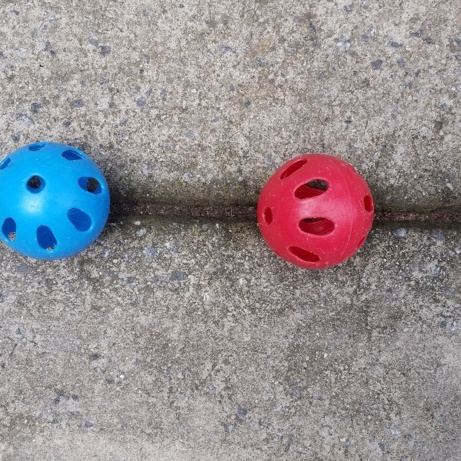ball: (253, 150, 379, 272), (0, 136, 115, 264)
